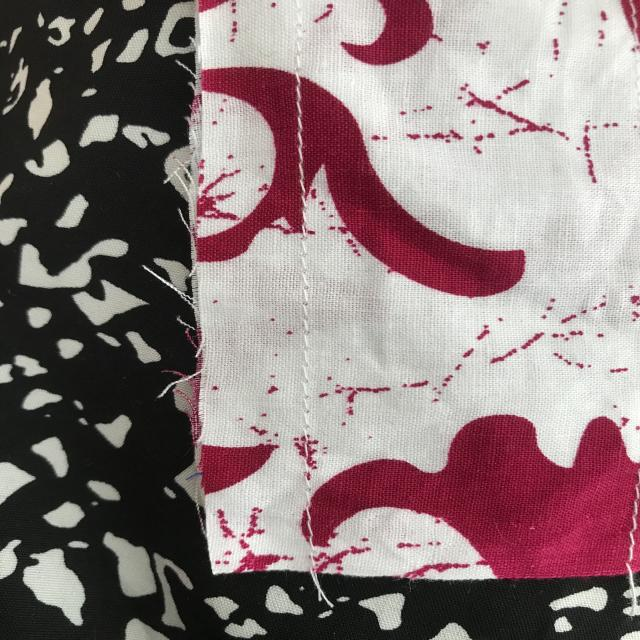good: (286, 244, 320, 428), (280, 78, 317, 173)
